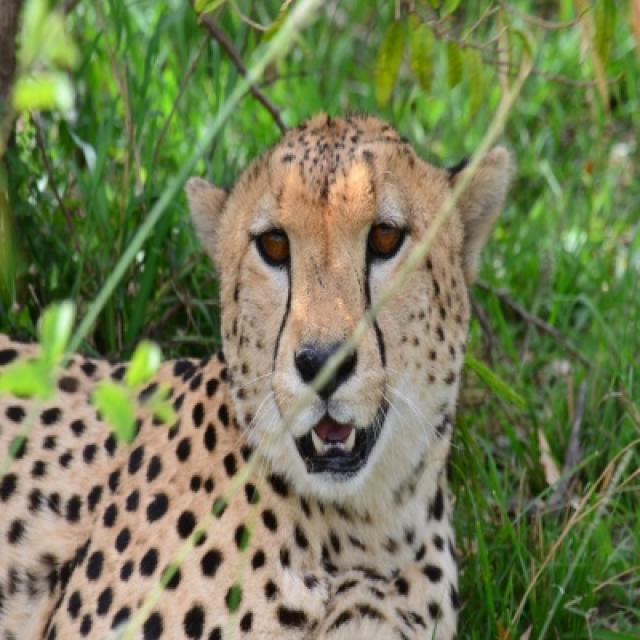Cheetah: (0, 115, 467, 638), (141, 147, 512, 638)
